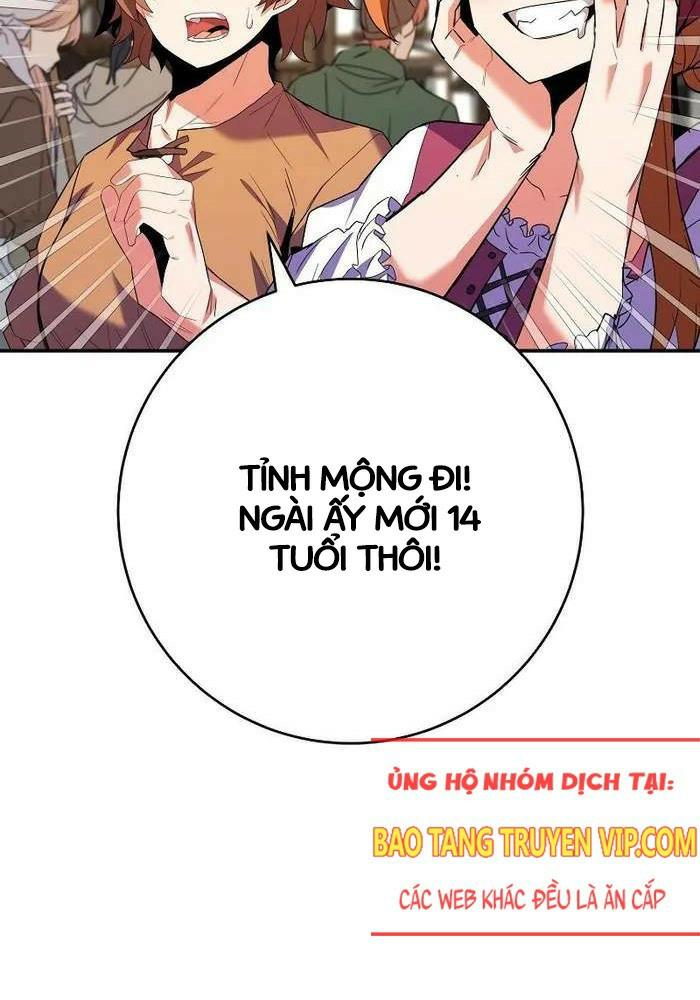quangcao: (370, 736, 700, 941)
